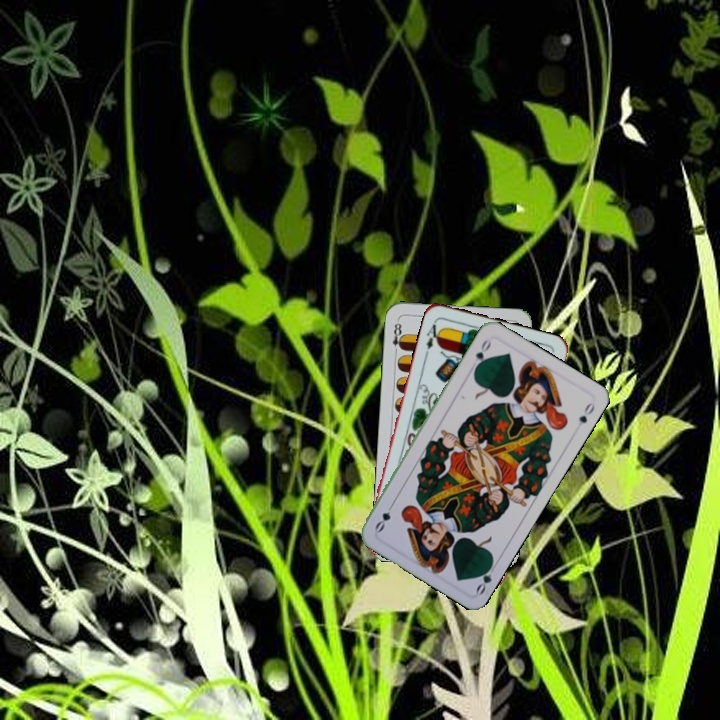E8: (389, 316, 406, 357)
EA: (422, 317, 444, 352)
GO: (472, 558, 500, 597), (470, 335, 494, 373)
